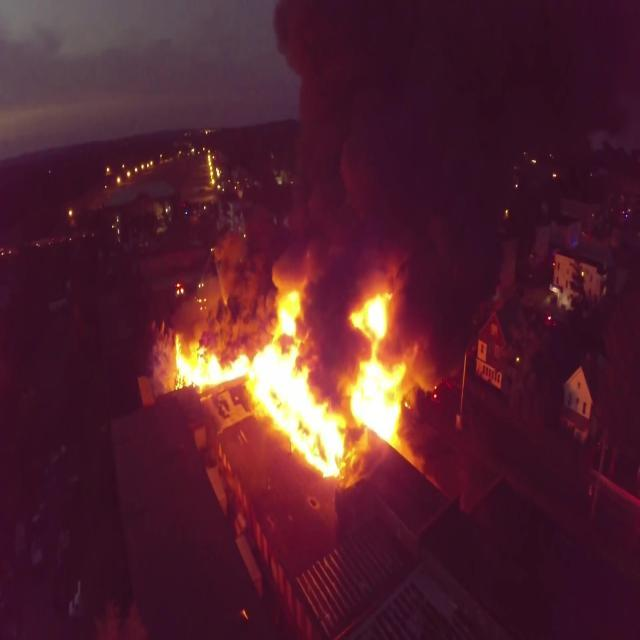Fire: (256, 305, 310, 459), (356, 314, 400, 452)
Smoke: (307, 12, 528, 276)
